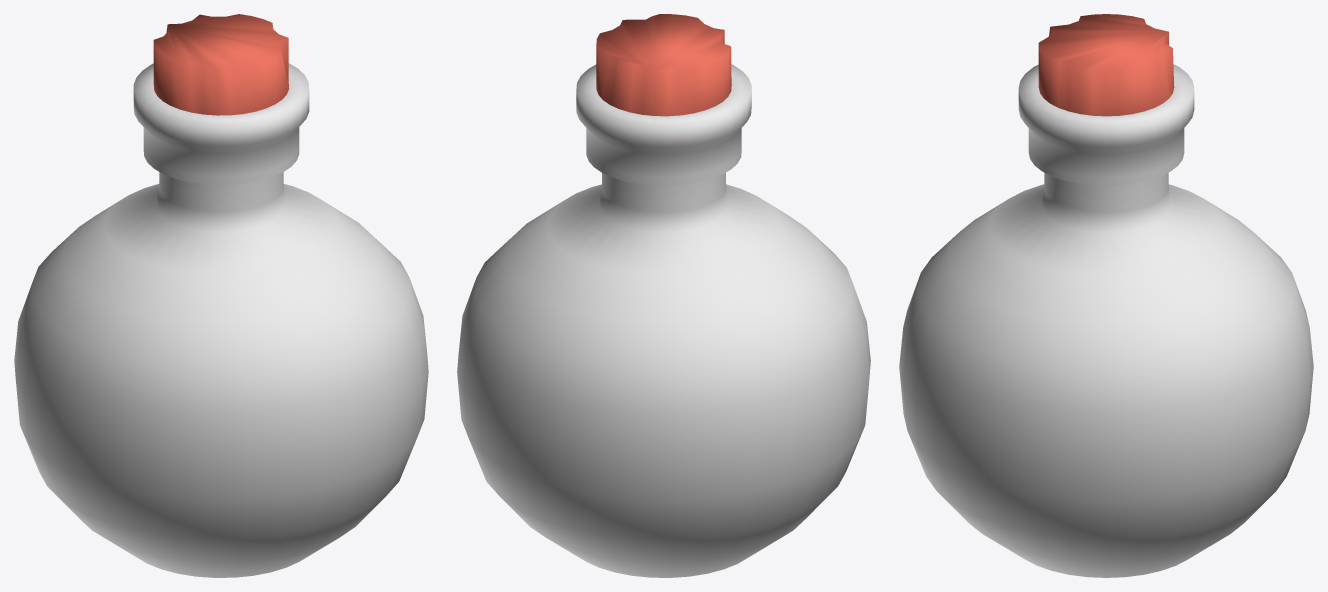
File: Potion.fbx
The picture shows the model from 3 angles, left to right: view 1: azimuth 30°, elevation 25°; view 2: azimuth 150°, elevation 25°; view 3: azimuth 270°, elevation 25°; orthographic projection.
Parts seen in each view (by area): view 1: Glass Bottle, Cork; view 2: Glass Bottle, Cork; view 3: Glass Bottle, Cork.
Boxes of the visible parts, x1,y1,x2,y2 form: Glass Bottle: (14, 63, 428, 577); Cork: (153, 14, 289, 115); Glass Bottle: (457, 64, 870, 577); Cork: (596, 14, 731, 116); Glass Bottle: (899, 64, 1313, 577); Cork: (1038, 14, 1174, 116).
Bounding box in the file's own units: 303 × 414 × 303.
